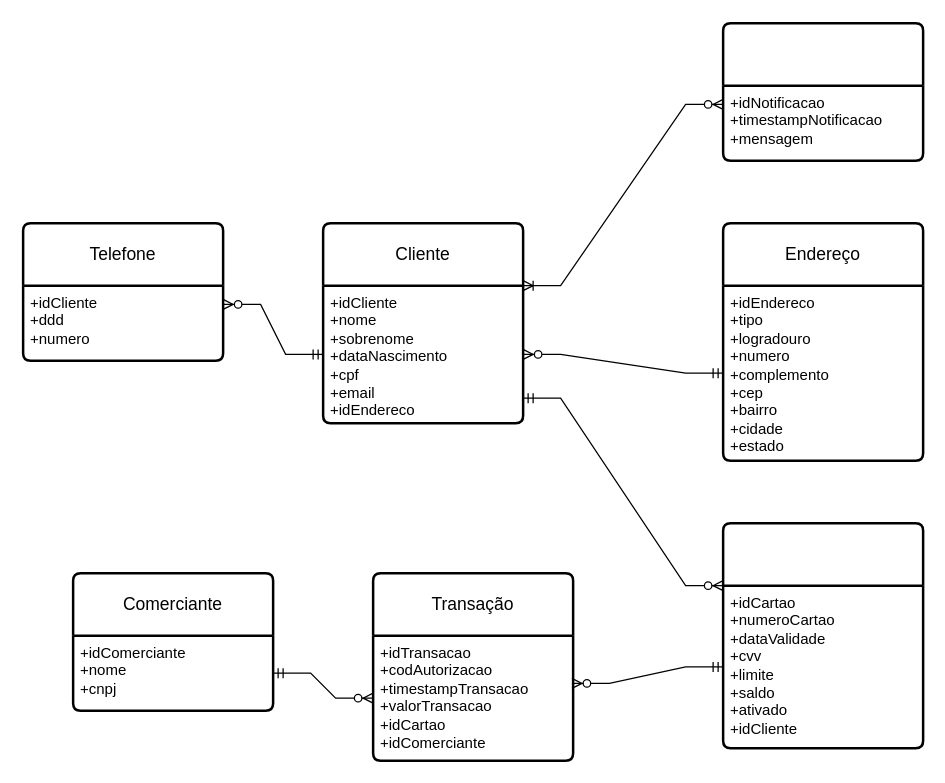
The diagram is 945 pixels wide and 783 high, and some of its shapes have lost their labels. The box of each missing label's shape, as (x1, y1, x2, y2) in pixels:
Cartão: (721, 521, 924, 749)
Notificação: (721, 21, 924, 161)
